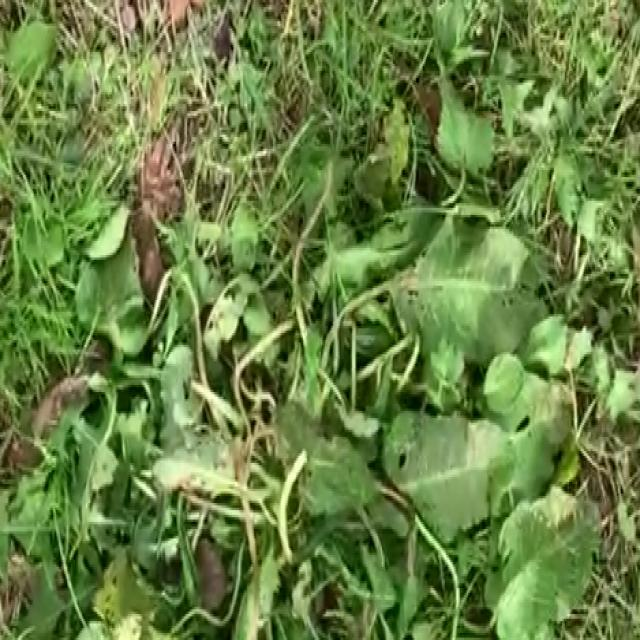organic waste: (61, 130, 606, 640)
